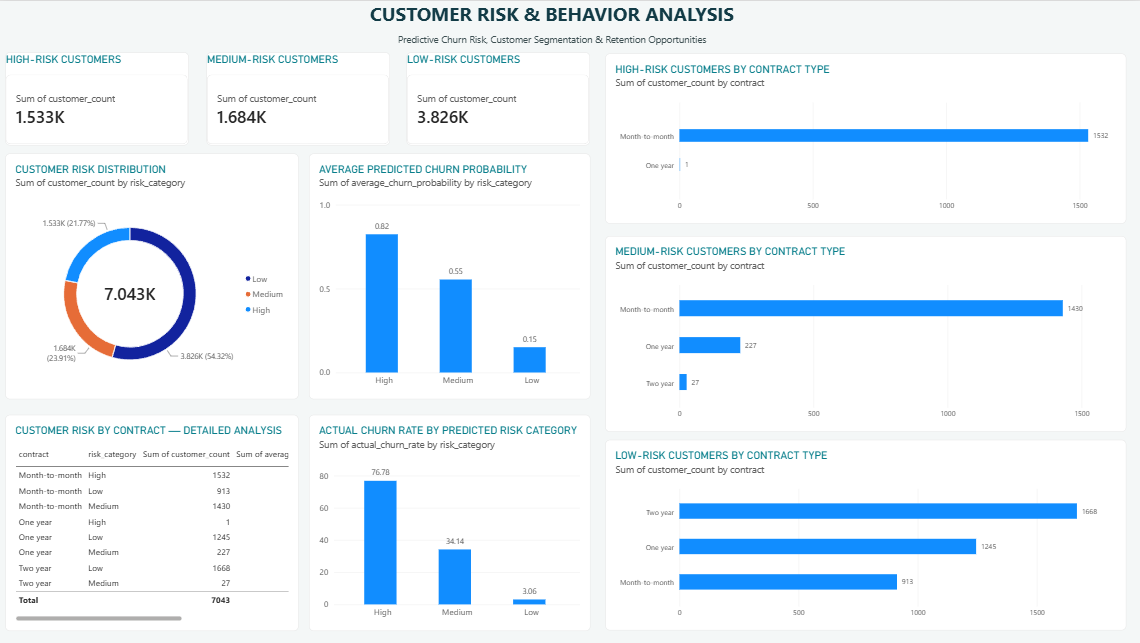

This screenshot's page, from the dashboard's own definition file:
{"tool":"powerbi","page":{"name":"Customer Risk & Behavior","canvas":[1920,1080],"ordinal":1},"visuals":[{"type":"textbox","box":[10,0,1840,52],"z":0},{"type":"textbox","box":[10,52,1840,34],"z":1},{"type":"cardVisual","title":"HIGH-RISK CUSTOMERS","fields":{"Data":["Sum(customer_risk_summary.customer_count)"]},"box":[10.3,86.4,308.7,156.4],"z":2},{"type":"cardVisual","title":"MEDIUM-RISK CUSTOMERS","fields":{"Data":["Sum(customer_risk_summary.customer_count)"]},"box":[349.9,86.4,308.7,156.4],"z":3},{"type":"cardVisual","title":"LOW-RISK CUSTOMERS","fields":{"Data":["Sum(customer_risk_summary.customer_count)"]},"box":[685.4,86.4,308.7,156.4],"z":4},{"type":"donutChart","title":"CUSTOMER RISK DISTRIBUTION","fields":{"Category":["customer_risk_summary.risk_category"],"Y":["Sum(customer_risk_summary.customer_count)"]},"box":[10.3,257.3,494,413.7],"z":5},{"type":"clusteredBarChart","title":"HIGH-RISK CUSTOMERS BY CONTRACT TYPE","fields":{"Category":["risk_by_contract.contract"],"Y":["Sum(risk_by_contract.customer_count)"]},"box":[1020.9,88.5,876.8,286.1],"z":6},{"type":"clusteredBarChart","title":"MEDIUM-RISK CUSTOMERS BY CONTRACT TYPE","fields":{"Category":["risk_by_contract.contract"],"Y":["Sum(risk_by_contract.customer_count)"]},"box":[1020.9,395.2,876.8,329.3],"z":7},{"type":"clusteredBarChart","title":"LOW-RISK CUSTOMERS BY CONTRACT TYPE","fields":{"Category":["risk_by_contract.contract"],"Y":["Sum(risk_by_contract.customer_count)"]},"box":[1020.9,738.9,876.8,321.1],"z":8},{"type":"tableEx","title":"CUSTOMER RISK BY CONTRACT — DETAILED ANALYSIS","fields":{"Values":["risk_by_contract.contract","risk_by_contract.risk_category","Sum(risk_by_contract.customer_count)","Sum(risk_by_contract.average_churn_probability)","Sum(risk_by_contract.actual_churn_rate)"]},"box":[10.3,695.7,494,364.3],"z":9},{"type":"clusteredColumnChart","title":"ACTUAL CHURN RATE BY PREDICTED RISK CATEGORY","fields":{"Category":["customer_risk_summary.risk_category"],"Y":["Sum(customer_risk_summary.actual_churn_rate)"]},"box":[520.8,695.7,473.4,364.3],"z":10},{"type":"clusteredColumnChart","title":"AVERAGE PREDICTED CHURN PROBABILITY","fields":{"Category":["customer_risk_summary.risk_category"],"Y":["Sum(customer_risk_summary.average_churn_probability)"]},"box":[520.8,257.3,473.4,413.7],"z":11}]}

Visuals, with their boxes in screenshot pixels (x1, y1, x2, y2), scaled from the page's 1920x1080 canvas onto the 1140x643 screenshot:
textbox: 6/0/1098/31
textbox: 6/31/1098/51
"HIGH-RISK CUSTOMERS" cardVisual: 6/51/189/145
"MEDIUM-RISK CUSTOMERS" cardVisual: 208/51/391/145
"LOW-RISK CUSTOMERS" cardVisual: 407/51/590/145
"CUSTOMER RISK DISTRIBUTION" donutChart: 6/153/299/399
"HIGH-RISK CUSTOMERS BY CONTRACT TYPE" clusteredBarChart: 606/53/1127/223
"MEDIUM-RISK CUSTOMERS BY CONTRACT TYPE" clusteredBarChart: 606/235/1127/431
"LOW-RISK CUSTOMERS BY CONTRACT TYPE" clusteredBarChart: 606/440/1127/631
"CUSTOMER RISK BY CONTRACT — DETAILED ANALYSIS" tableEx: 6/414/299/631
"ACTUAL CHURN RATE BY PREDICTED RISK CATEGORY" clusteredColumnChart: 309/414/590/631
"AVERAGE PREDICTED CHURN PROBABILITY" clusteredColumnChart: 309/153/590/399
